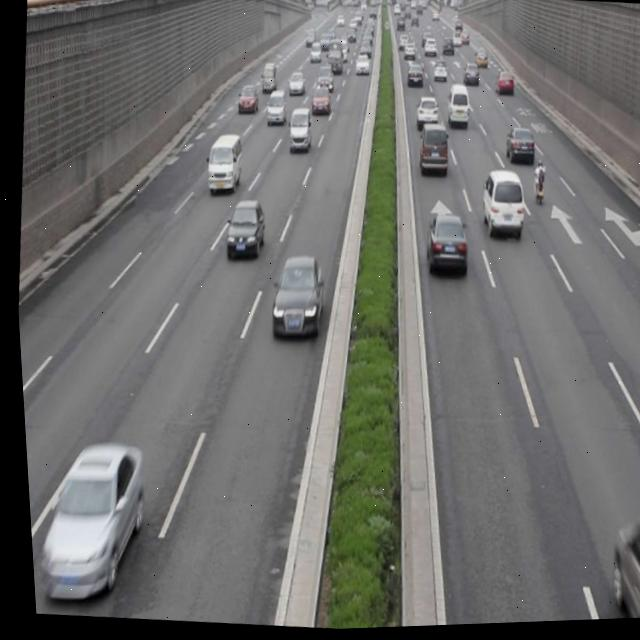car: (25, 435, 144, 605), (264, 254, 323, 341), (599, 521, 640, 623), (419, 213, 466, 277), (221, 199, 263, 260), (501, 125, 534, 167), (412, 95, 438, 133), (234, 84, 258, 118), (307, 86, 329, 117)
truck: (475, 171, 525, 241), (200, 132, 243, 195), (413, 123, 449, 179), (284, 108, 312, 154), (442, 85, 470, 129), (262, 89, 286, 127)
